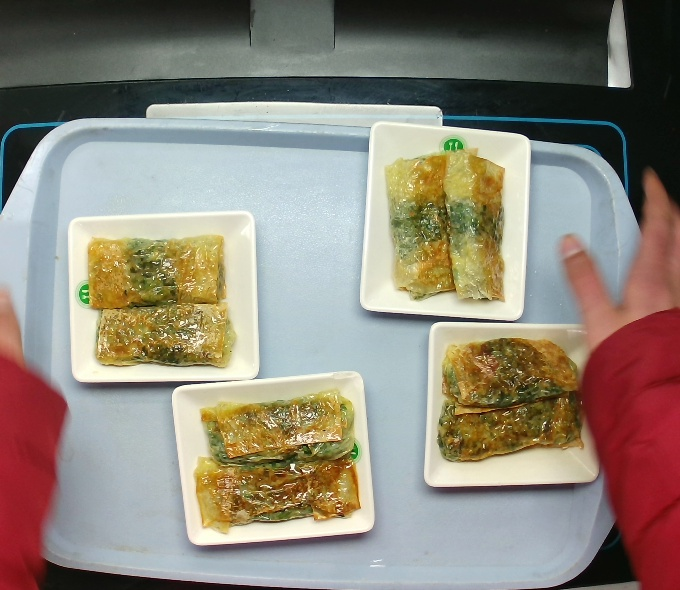wcq-CaiBao: (411, 326, 595, 477), (184, 386, 368, 537), (67, 223, 251, 374), (377, 135, 517, 310)
